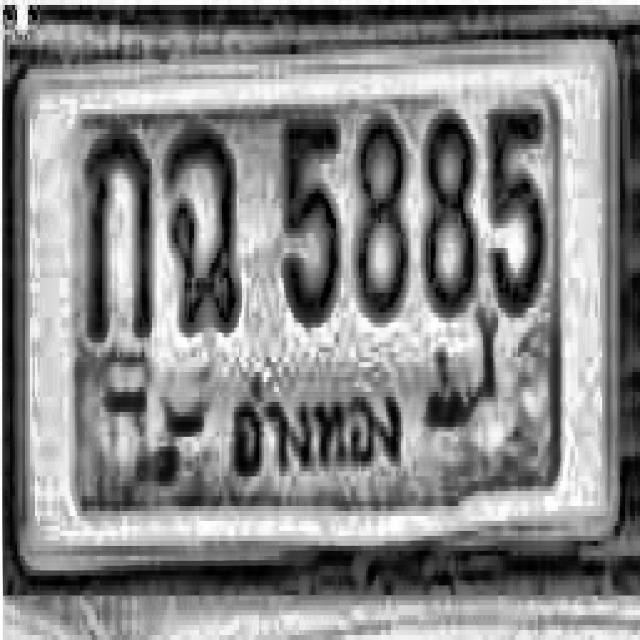license-plate: (5, 7, 631, 588)
